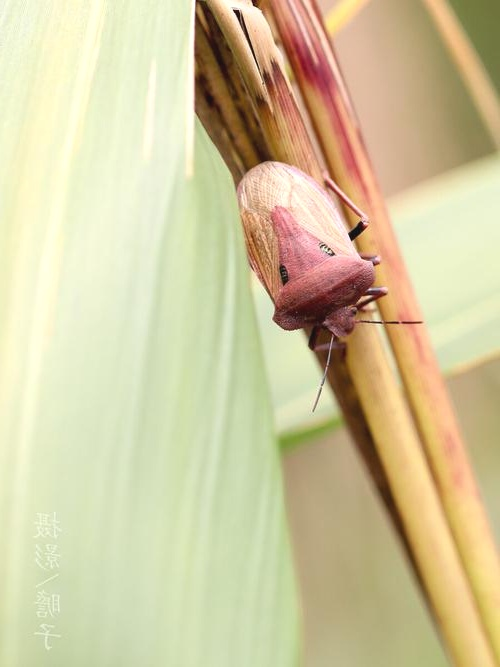Stink_Bug: (237, 164, 359, 327)
